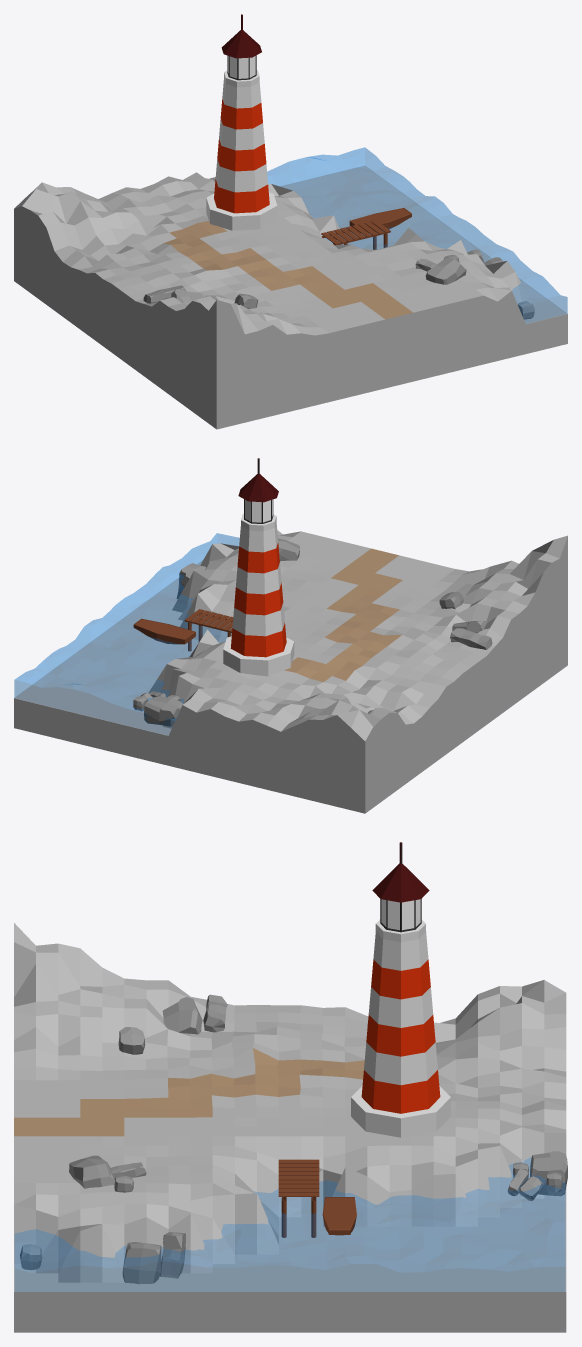
3 views of the same model, one above another, from view 1: azimuth 30°, elevation 25°; view 2: azimuth 150°, elevation 25°; view 3: azimuth 270°, elevation 25° (orthographic). The views are drawn at different scales.
Visible parts, largest first — view 1: Land, Sea, Lighthouse, Road, Base.001, Pier, Rock.004; view 2: Land, Sea, Lighthouse, Road, Base.001, Rock.001, Pier, Rock.010, Boat cutter, Boat; view 3: Land, Sea, Lighthouse, Road, Base.001, Pier, Rock.003, Rock.004, Rock.001, Rock.014, Rock.011, Boat cutter (+2 smaller).
Boxes of the visible parts, <box> form: Land: <box>14,166,567,429</box>; Sea: <box>267,147,567,323</box>; Lighthouse: <box>214,14,269,213</box>; Road: <box>163,221,412,319</box>; Base.001: <box>206,192,277,230</box>; Pier: <box>321,220,390,244</box>; Rock.004: <box>425,258,466,284</box>; Land: <box>14,530,567,813</box>; Sea: <box>14,533,239,734</box>; Lighthouse: <box>230,458,286,657</box>; Road: <box>284,548,402,681</box>; Base.001: <box>223,636,294,676</box>; Rock.001: <box>144,696,183,726</box>; Pier: <box>184,609,233,631</box>; Rock.010: <box>450,628,492,649</box>; Boat cutter: <box>135,619,193,638</box>; Boat: <box>133,618,195,644</box>; Land: <box>14,923,566,1332</box>; Sea: <box>15,1157,565,1291</box>; Lighthouse: <box>361,842,440,1113</box>; Road: <box>14,1048,364,1136</box>; Base.001: <box>351,1085,450,1137</box>; Pier: <box>278,1159,319,1196</box>; Rock.003: <box>122,1242,161,1284</box>; Rock.004: <box>69,1155,114,1188</box>; Rock.001: <box>530,1151,567,1196</box>; Rock.014: <box>162,997,202,1034</box>; Rock.011: <box>160,1232,185,1278</box>; Boat cutter: <box>323,1197,355,1229</box>.
Size of the model in its own units: 8.01 by 5.88 by 8.03.
